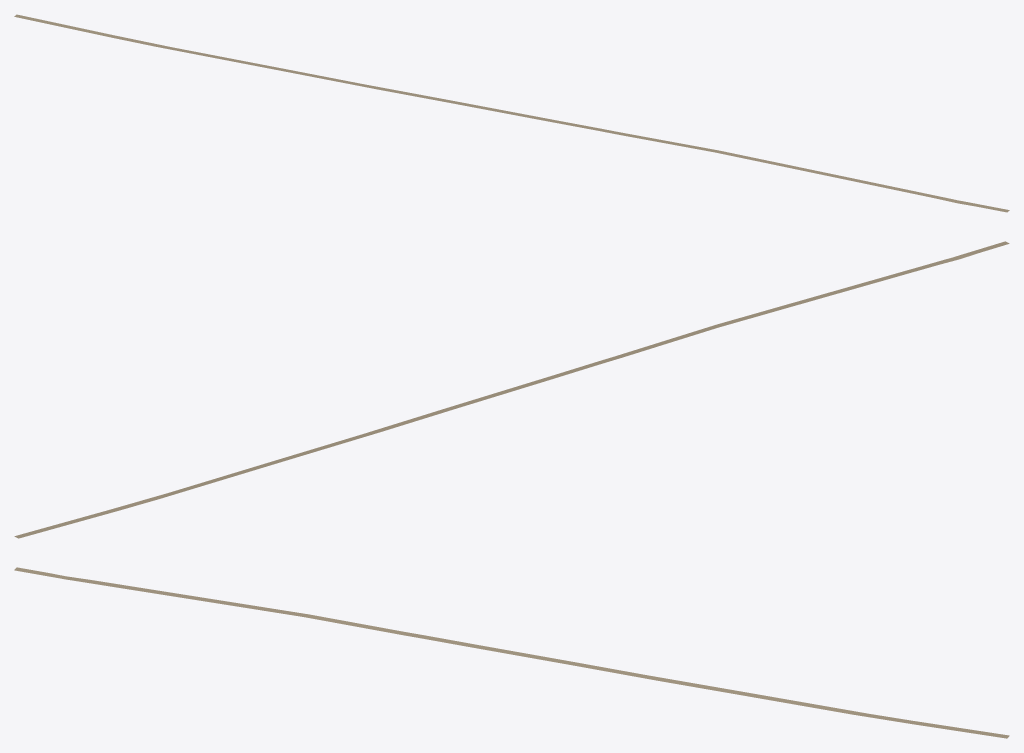
Rendered from farm_-5_0_track.glb.
3 renders of one model, top to bottom at view 1: azimuth 90°, elevation 25°; view 2: azimuth 150°, elevation 25°; view 3: azimuth 270°, elevation 25°, orthographic. The views are drawn at different scales.
Visible parts, largest first — view 1: geometry_0; view 2: geometry_0; view 3: geometry_0.
Boxes of the visible parts, box(x1,y1,x2,y2) form: geometry_0: box(14, 14, 1009, 212); geometry_0: box(14, 241, 1009, 538); geometry_0: box(14, 567, 1009, 738).
Bounding box in the file's own units: 207 × 7.37 × 471.
